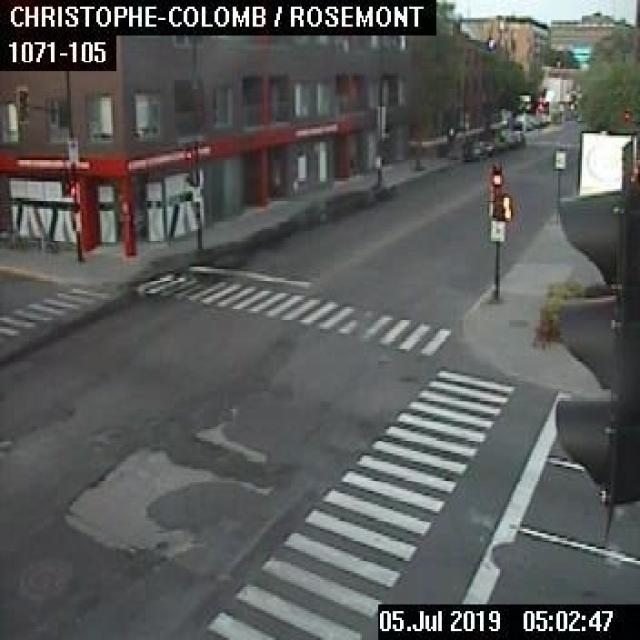vehicle: (461, 137, 492, 159)
